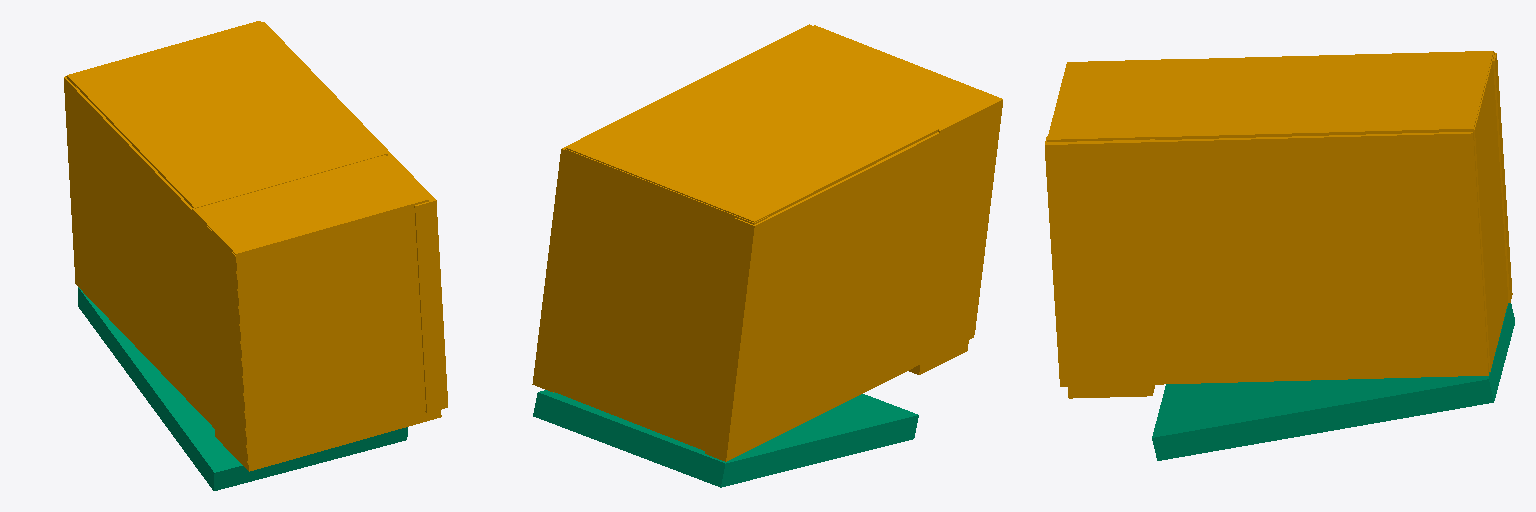
robot.urdf — microwave:
<?xml version="1.0"?>
<robot name="microwave">
  <link name ="rb0">
    <visual>
      <origin xyz='0.080462 0.000215 -0.059802' rpy='1.657594 0.068107 -1.652794'/>
      <geometry>
        <mesh filename="meshes/microwave.obj"  scale="1 1 1" />
      </geometry>
    </visual>

     <collision>
      <origin xyz='0.080462 0.000215 -0.059802' rpy='1.657594 0.068107 -1.652794'/>
      <geometry>
        <mesh filename="meshes/microwave.obj"  scale="1 1 1" />
      </geometry>
    </collision>

  </link>
  <joint name="j_0_1" type="revolute">
    <parent link="rb0"/>
    <child link="rb1"/>
    <origin xyz="0.07205093735 0.190694365814 -0.353022975905" rpy="0 0 0 "/>
    <axis xyz="0.984974124857 -0.162502852506 0.0584704736547"/>
    <limit effort="30" velocity="1.0" lower="-3.1416" upper="3.1416"/>
  </joint>
  <joint name="j_0_fixed" type="fixed">
    <parent link="rb1"/>
    <child link="rb1_marker"/>
      <origin xyz="-0.0565951532963 -0.380803829114 -0.0996908344172" rpy="0.479541606394 -1.40259591186 -2.11289192677"/>
    <limit effort="30" velocity="1.0" lower="-3.1416" upper="3.1416"/>
  </joint>
  <link name ="rb1">
  </link>
  <link name ="rb1_marker">
    <visual>
      <origin xyz='-0.086981 0.102000 0.220229' rpy='-1.544815 -0.073080 3.141268'/>
      <geometry>
        <mesh filename="meshes/microwave_door.obj"  scale="1 1 1" />
      </geometry>
    </visual>

    <collision>
      <origin xyz='-0.086981 0.102000 0.220229' rpy='-1.544815 -0.073080 3.141268'/>
      <geometry>
        <mesh filename="meshes/microwave_door.obj"  scale="1 1 1" />
      </geometry>
    </collision>
  </link>
</robot>

--- What the picture shows (computed from the rendered views, not written in the file) ---
Views: 3 orthographic renders of the robot side by side, from view 1: azimuth 30°, elevation 25°; view 2: azimuth 150°, elevation 25°; view 3: azimuth 270°, elevation 25°.
Model microwave with 3 links and 2 joints (1 revolute, 1 fixed), rooted at rb0, posed every joint at zero.
Links seen in each view (by area): view 1: rb0, rb1_marker; view 2: rb0, rb1_marker; view 3: rb0, rb1_marker.
Link boxes in pixels (x1,y1,x2,y2): rb0: [64, 21, 447, 471]; rb1_marker: [78, 287, 407, 490]; rb0: [532, 24, 1002, 461]; rb1_marker: [533, 390, 918, 487]; rb0: [1045, 51, 1512, 398]; rb1_marker: [1152, 303, 1514, 460].
Bounding box of the posed robot: 0.3473 × 0.5574 × 0.454 m (x, y, z).
Meshes: 2 distinct files referenced, 2 mesh visuals loaded (2 OBJ).